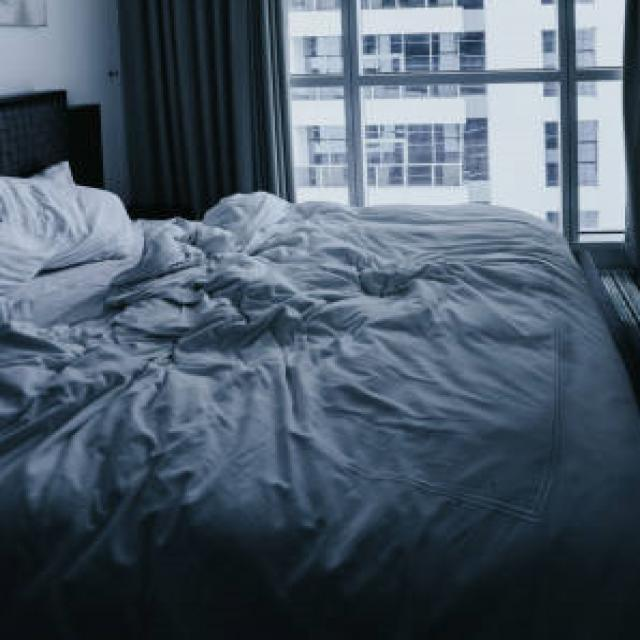bed: (0, 140, 640, 594)
